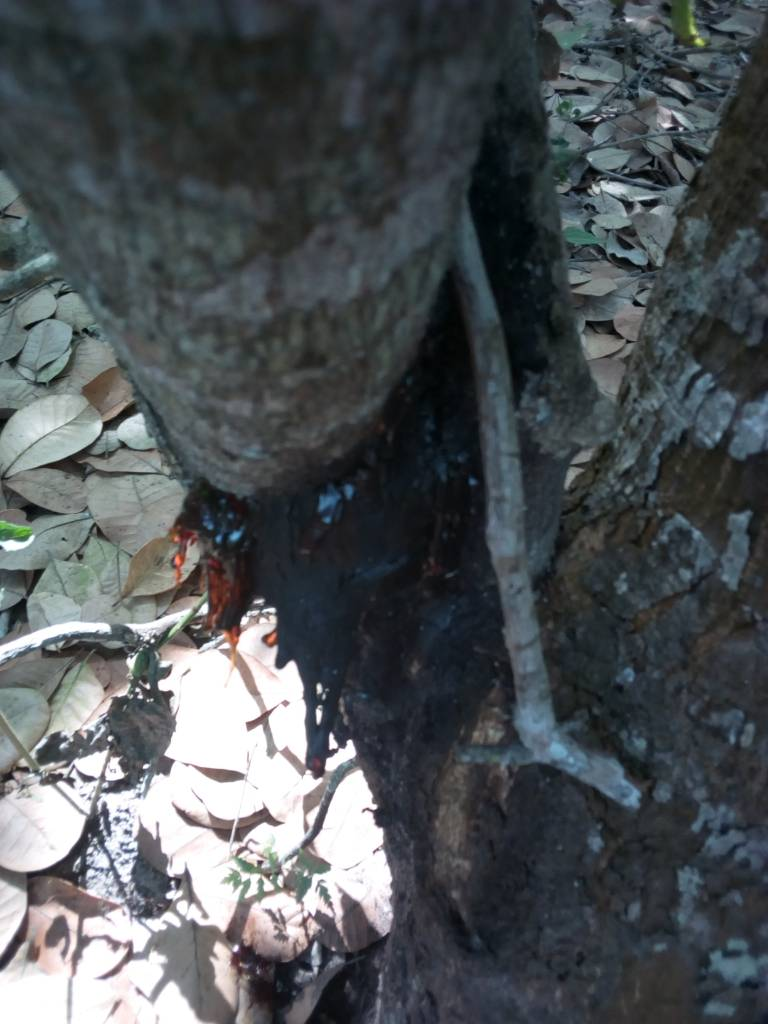Gommose: (165, 474, 505, 775)
